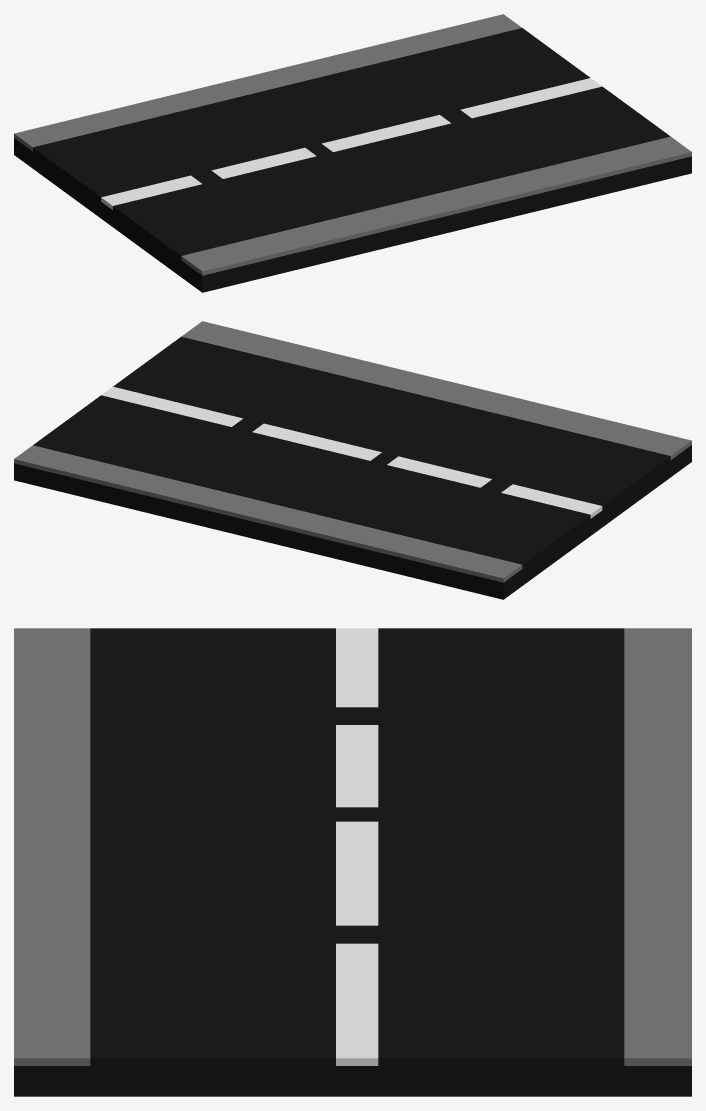
Rendered from road.obj.
3 views of the same model, one above another, from view 1: azimuth 30°, elevation 25°; view 2: azimuth 150°, elevation 25°; view 3: azimuth 270°, elevation 25° (orthographic). The views are drawn at different scales.
Size of the model in its own units: 120 by 5 by 80.
Materials: 1 (1 with a texture image).
